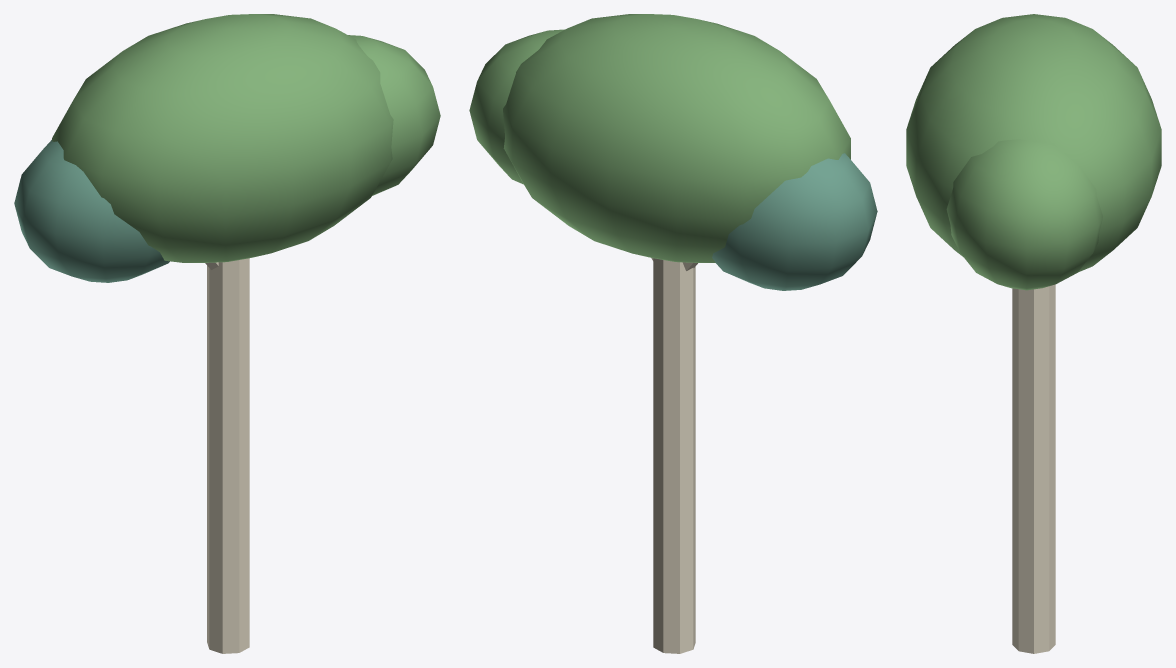
The model's file is granular_birch_tree.glb.
3 views of the same model, side by side, from view 1: azimuth 30°, elevation 25°; view 2: azimuth 150°, elevation 25°; view 3: azimuth 270°, elevation 25° (orthographic).
Visible parts, largest first — view 1: granular_birch_tree_root; view 2: granular_birch_tree_root; view 3: granular_birch_tree_root.
Boxes of the visible parts, box(x1,y1,x2,y2) form: granular_birch_tree_root: box(14, 14, 440, 653); granular_birch_tree_root: box(469, 14, 877, 653); granular_birch_tree_root: box(906, 14, 1161, 653).
Size of the model in its own units: 3.67 by 5.4 by 2.06.
